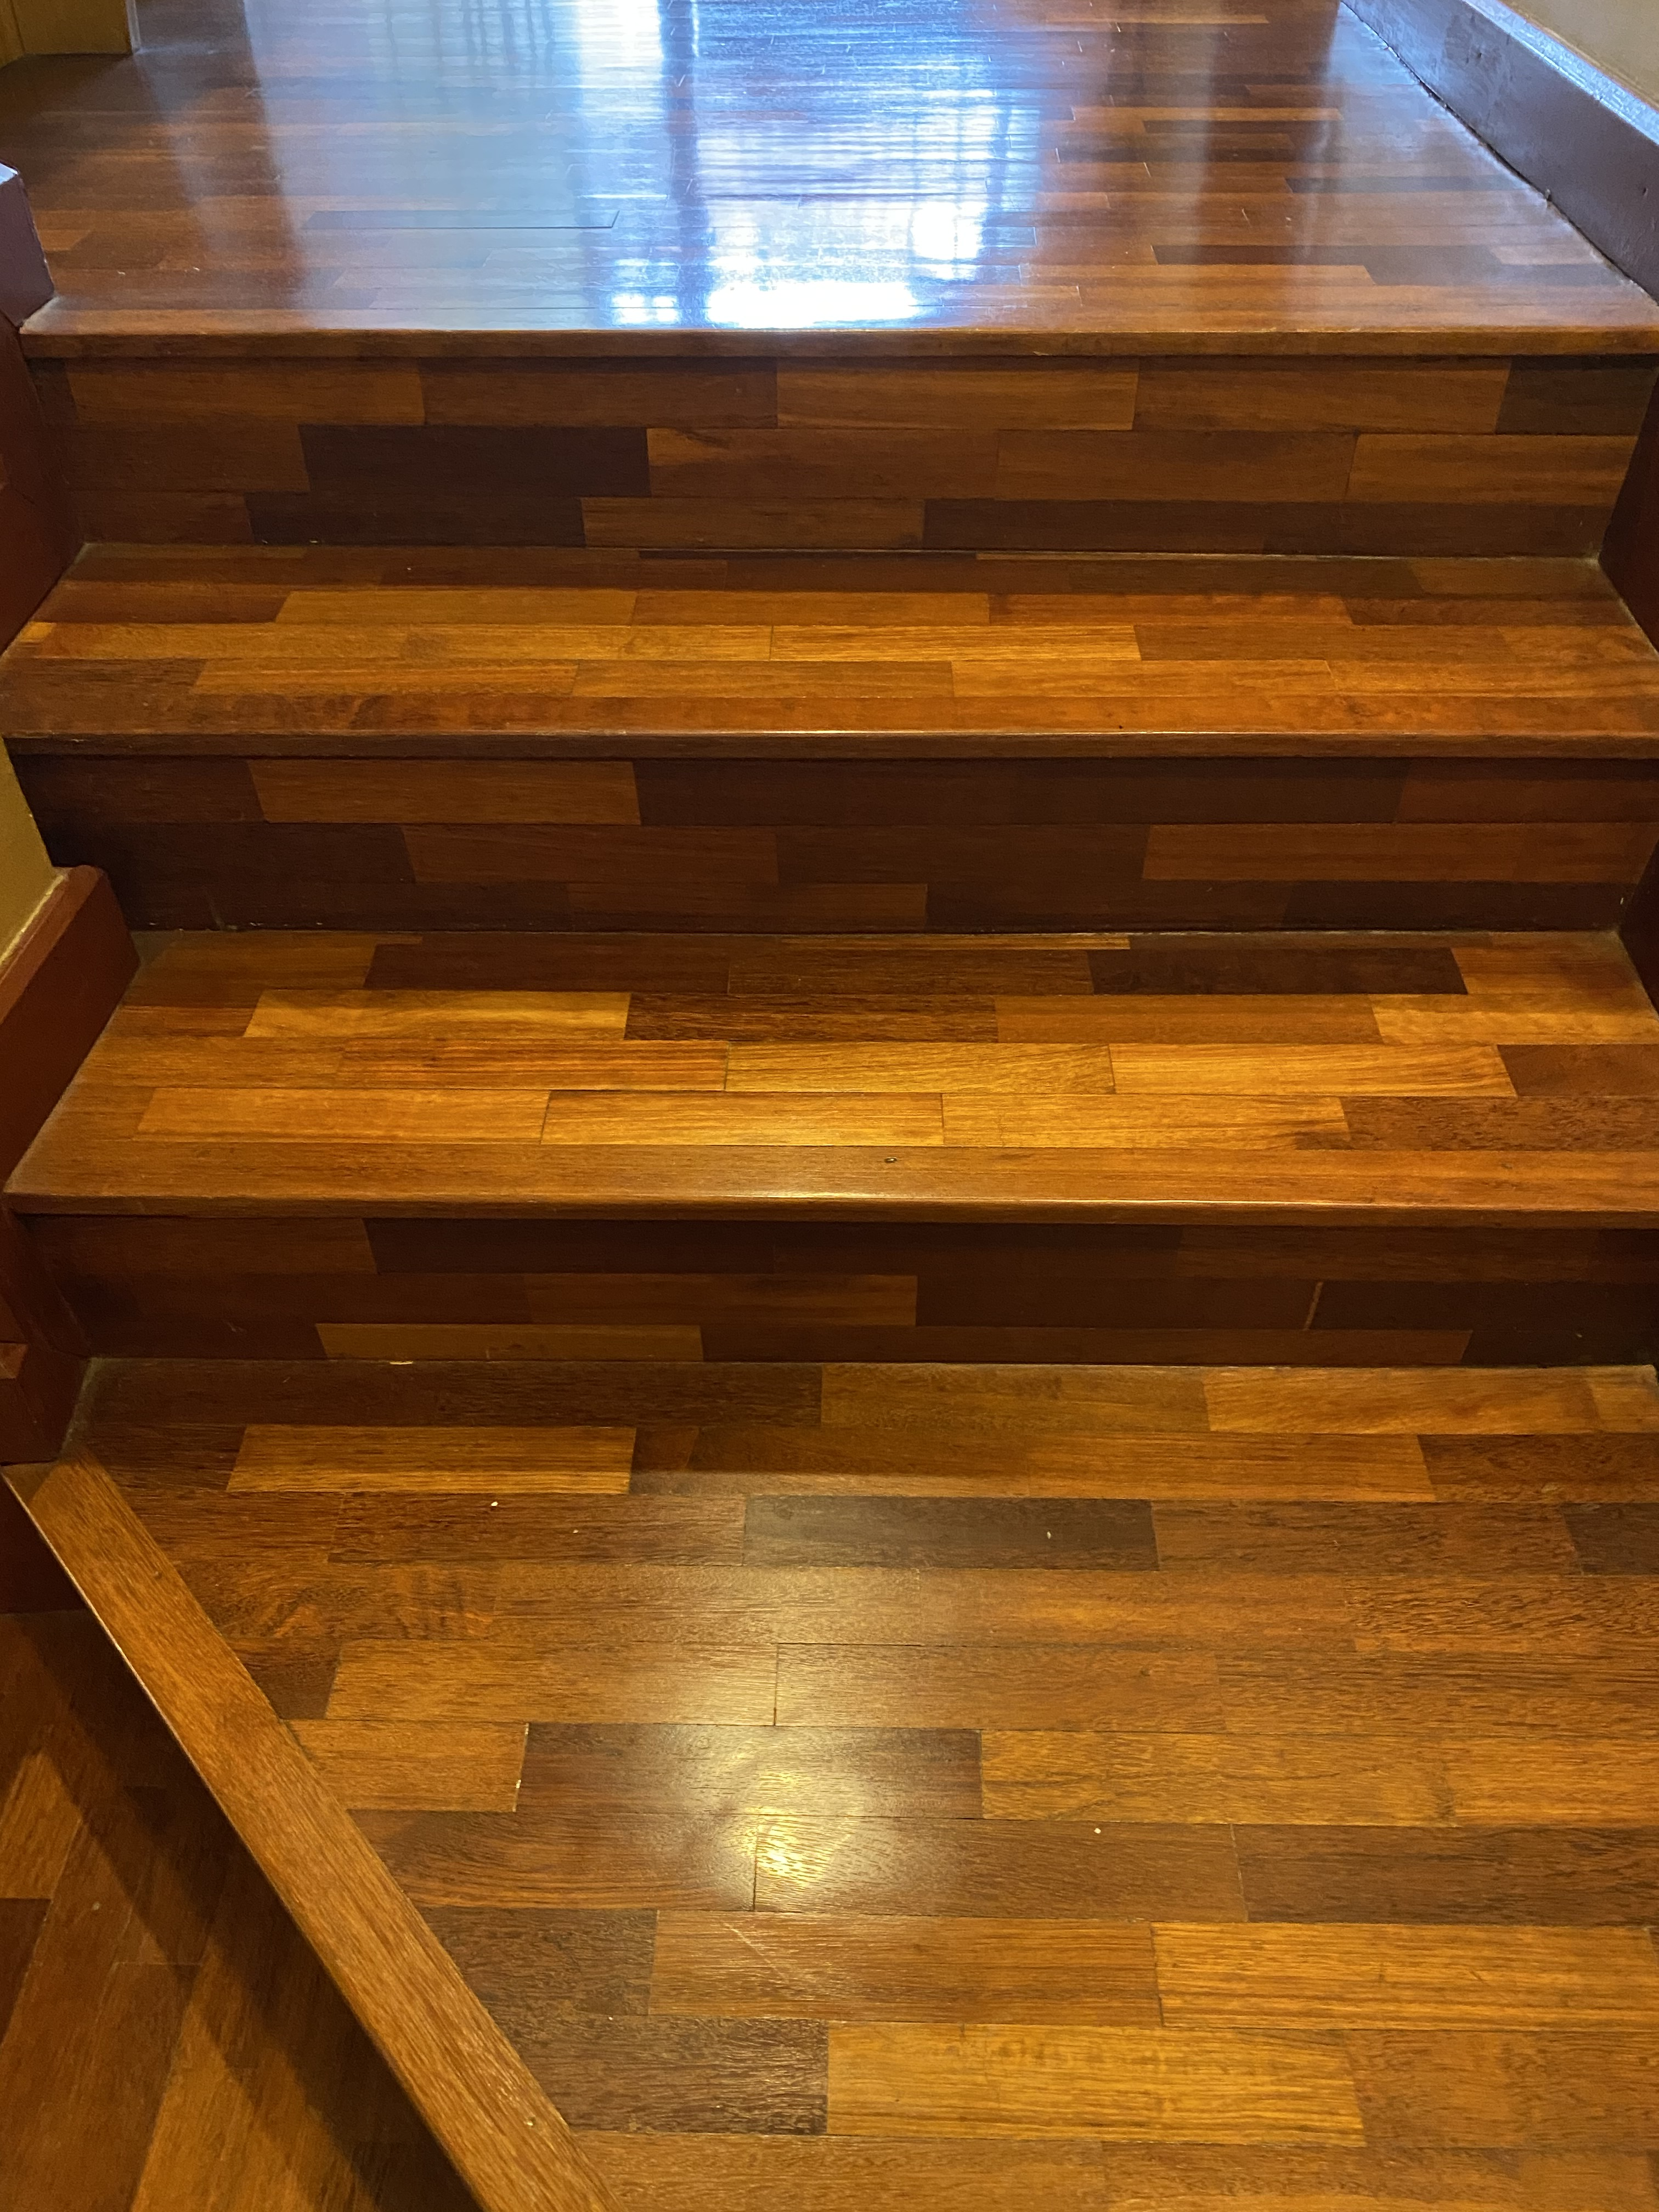upstairs: (143, 226, 1628, 1479)
